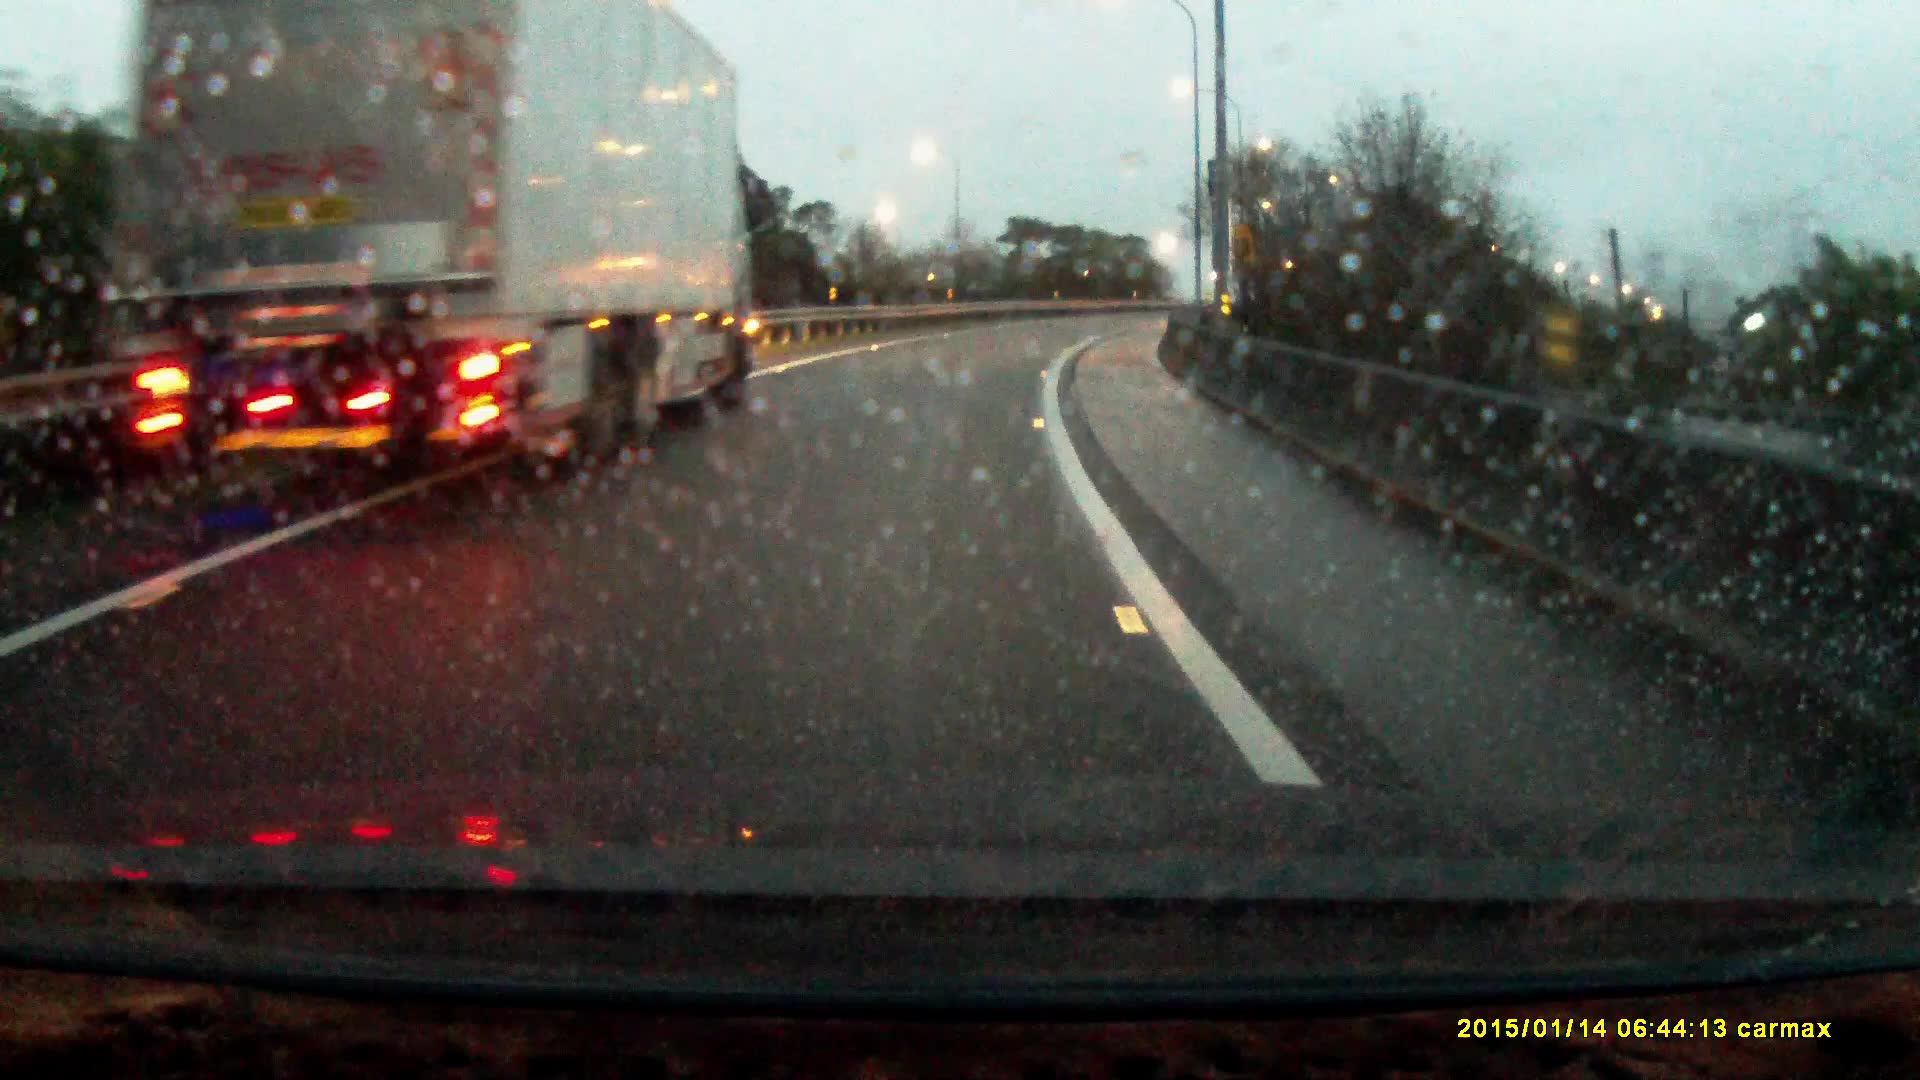vehicle: (76, 1, 769, 504)
